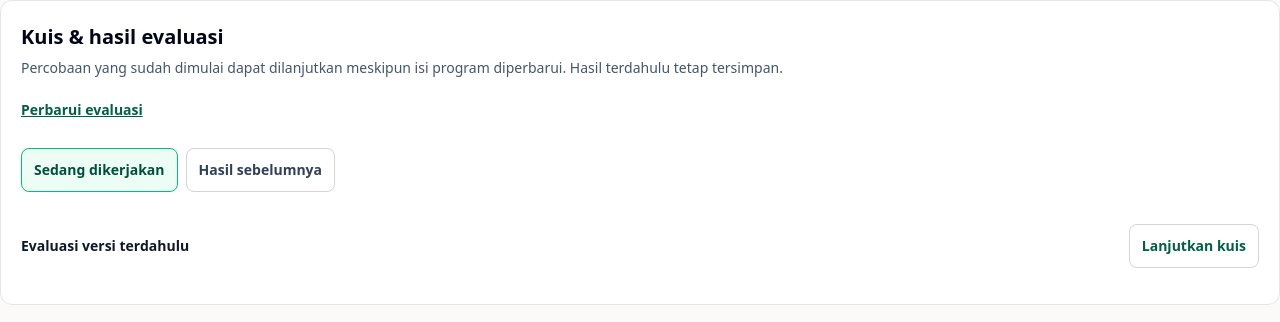
Test: Participant assessment navigation › links active assessments independently of the current lesson revision
Step 1. Click the button "Hasil sebelumnya" → coordinates (260, 170), box x1=186 y1=148 x2=335 y2=192
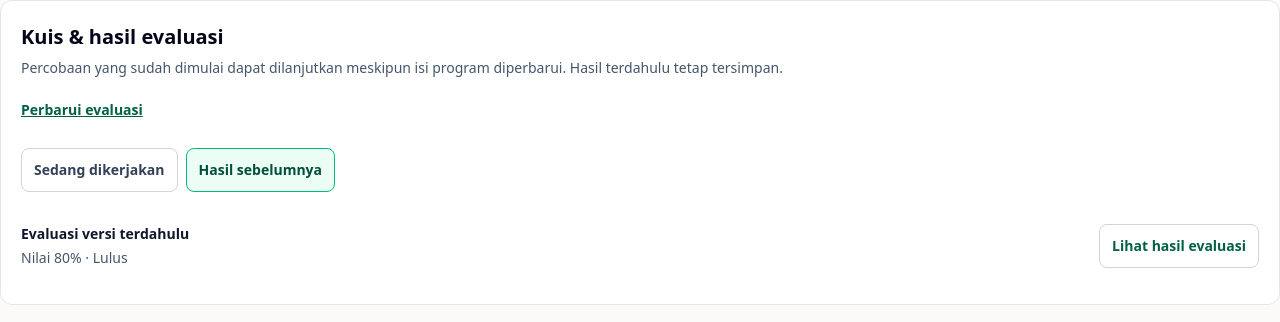
Check: the text "Nilai 80% · Lulus" is shown, box x1=21 y1=248 x2=128 y2=267
